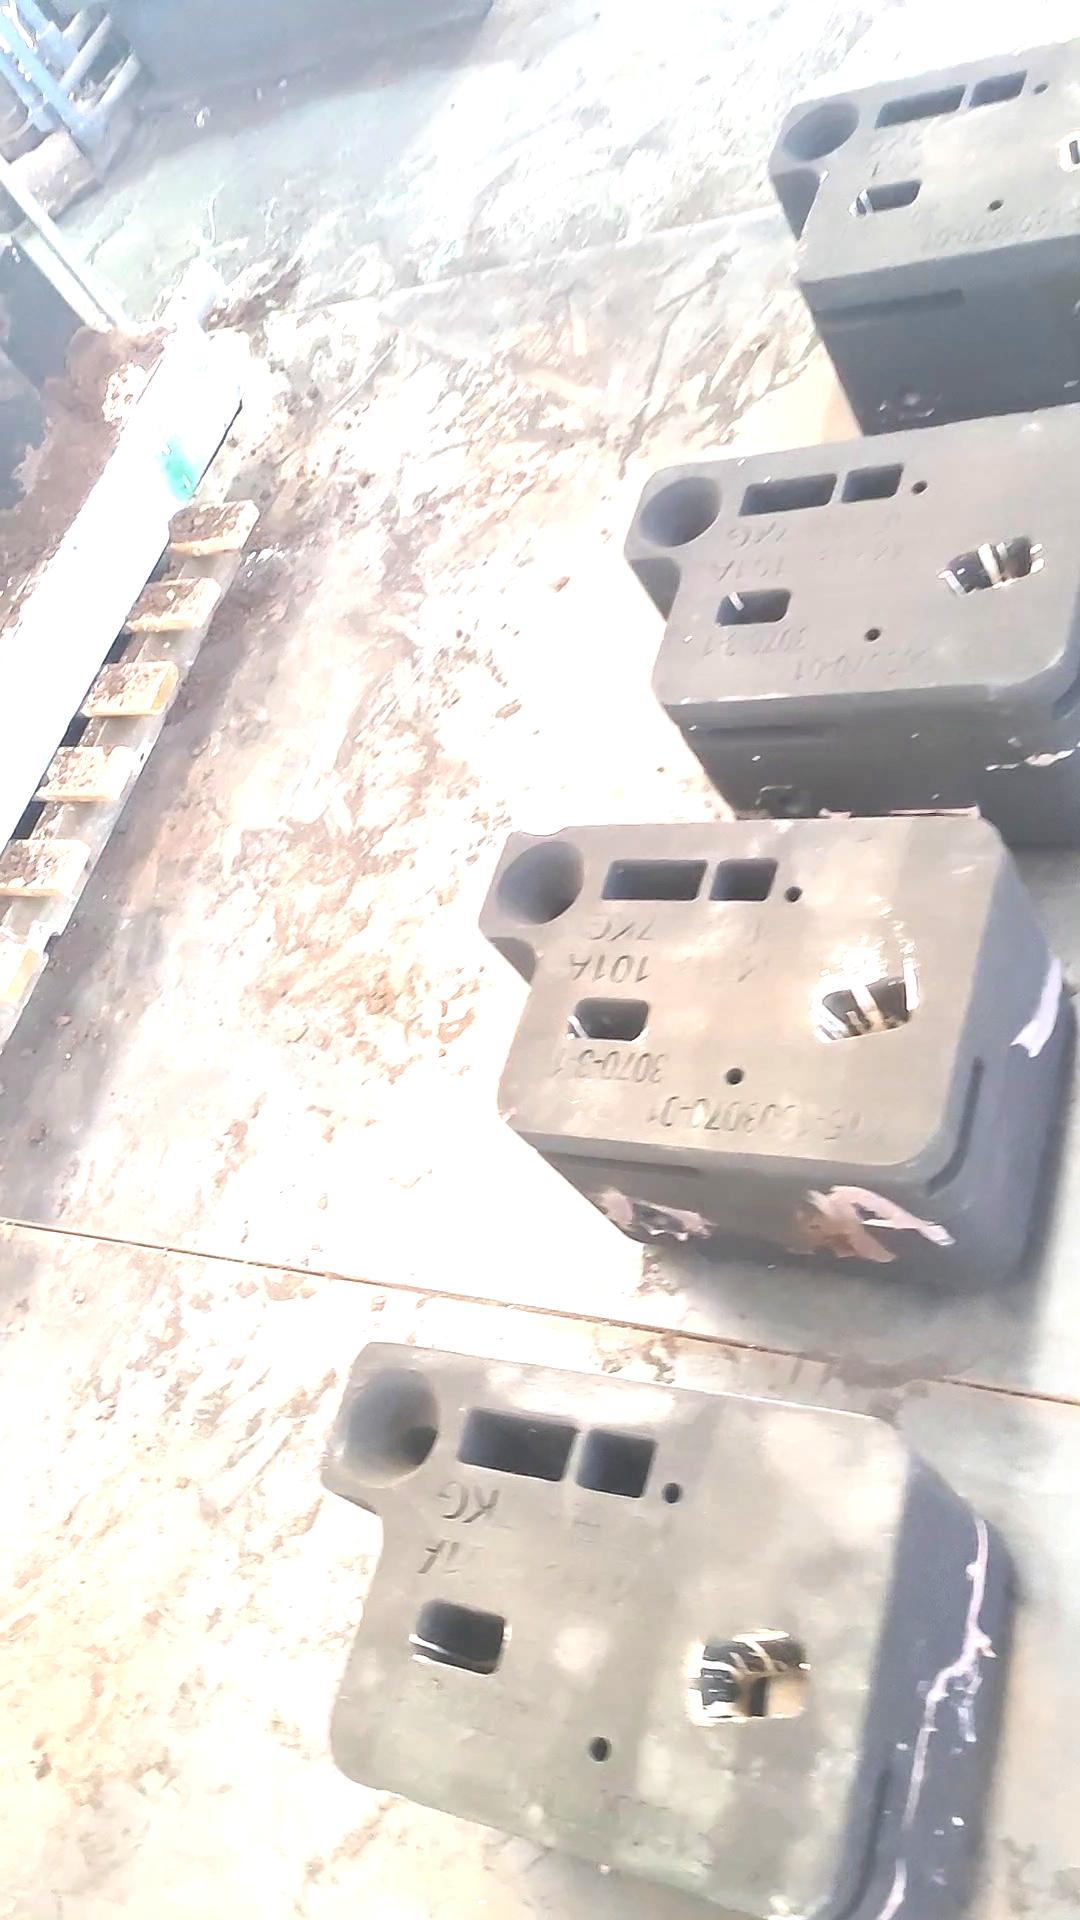pouring hole: (338, 1367, 442, 1490), (492, 837, 587, 928), (640, 477, 724, 547), (778, 94, 861, 161)
